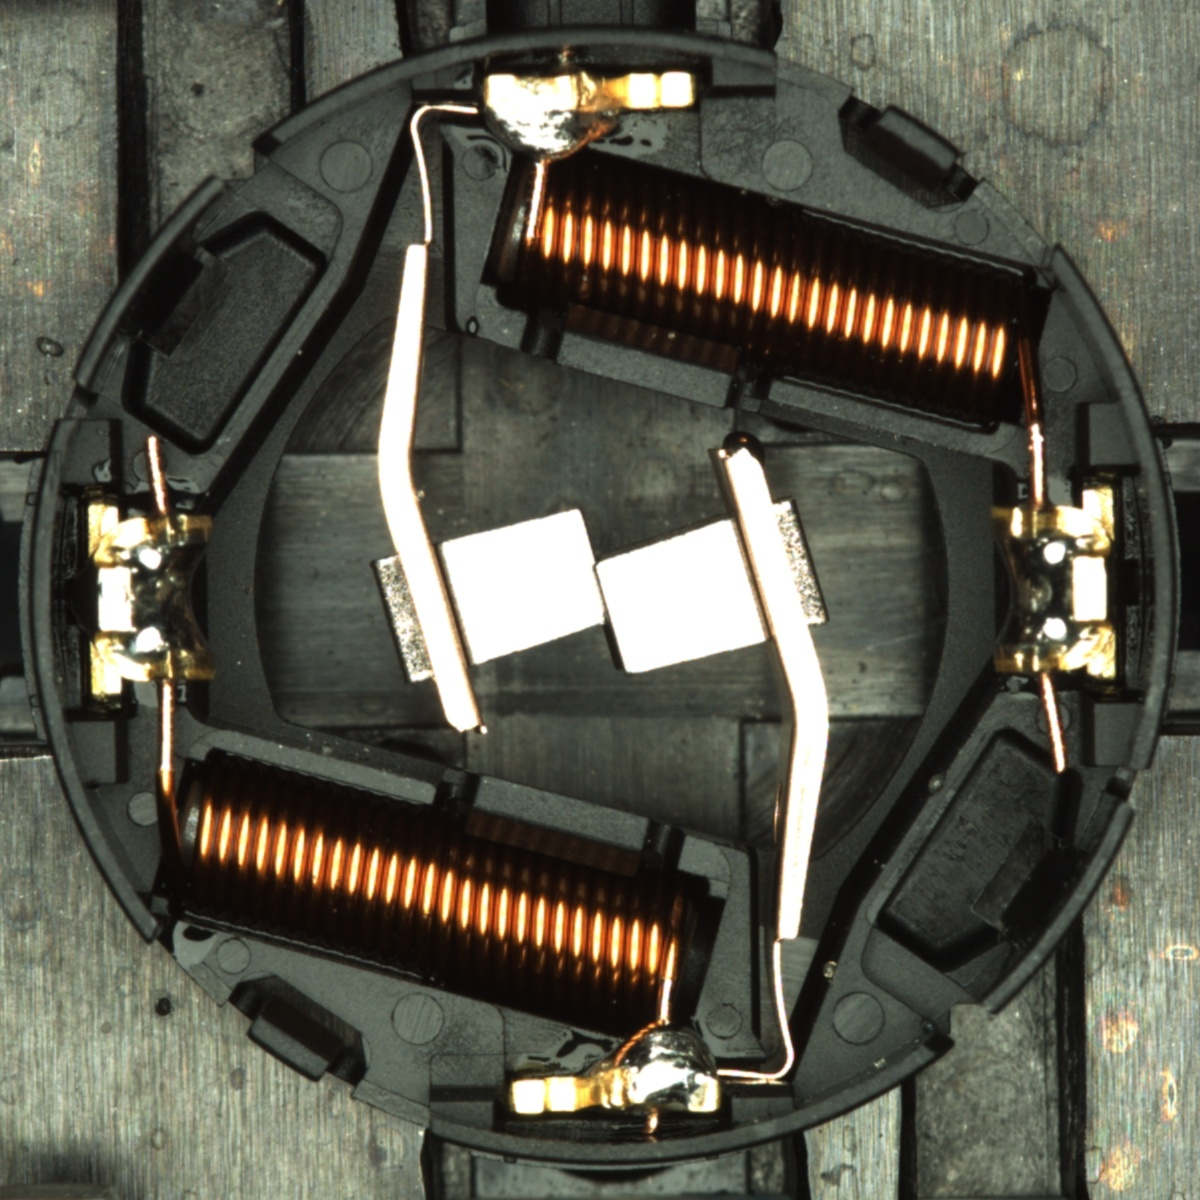1: (255, 30, 484, 254), (713, 928, 942, 1152)
2: (713, 30, 942, 254), (255, 928, 484, 1152)
3: (25, 254, 255, 479), (942, 703, 1172, 928)
4: (255, 254, 484, 479), (713, 703, 942, 928)
5: (484, 142, 713, 367), (484, 815, 713, 1040)
6: (713, 254, 942, 479), (255, 703, 484, 928)
7: (942, 254, 1172, 479), (25, 703, 255, 928)
cacbon: (394, 497, 803, 685)
chau_dien: (80, 498, 220, 698), (983, 486, 1123, 685)
hat_chi: (721, 430, 767, 468)
tay_choi: (481, 69, 700, 169), (508, 1019, 723, 1118)
thanh_de: (954, 786, 1142, 1031), (59, 163, 245, 405)
